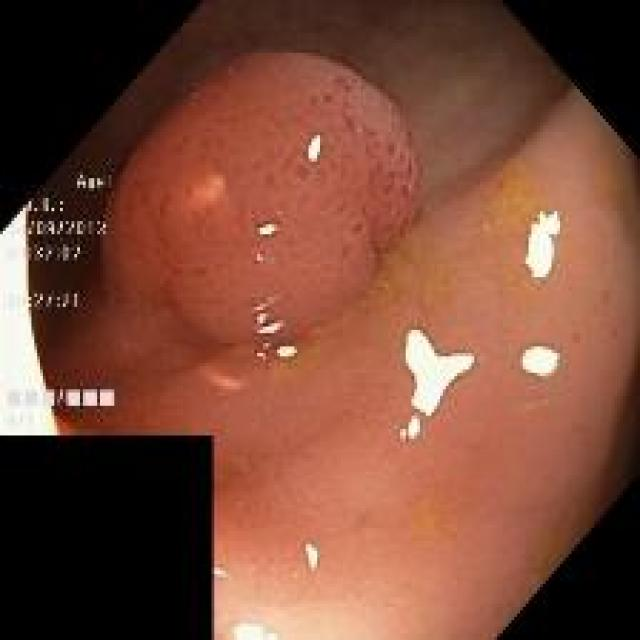Polyps: (101, 52, 421, 345)
